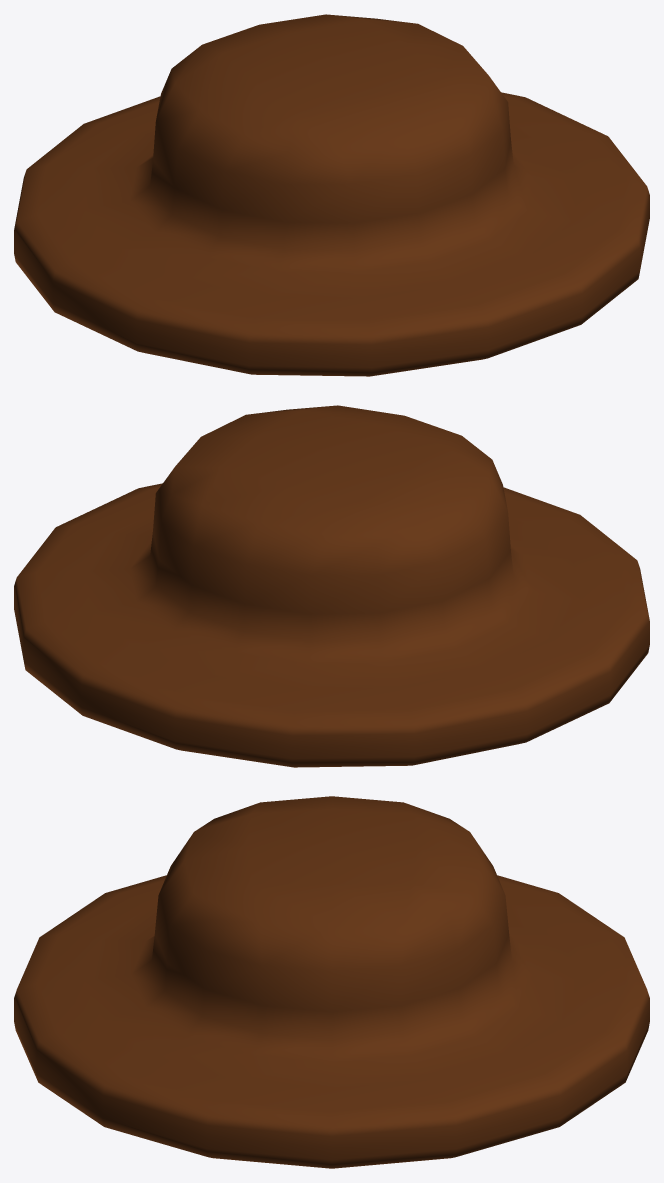
Rendered from chapeu.fbx.
3 views of the same model, one above another, from view 1: azimuth 30°, elevation 25°; view 2: azimuth 150°, elevation 25°; view 3: azimuth 270°, elevation 25° (orthographic).
Parts seen in each view (by area): view 1: Cube; view 2: Cube; view 3: Cube.
Boxes of the visible parts, x1=… form: Cube: x1=14, y1=14, x2=649, y2=376; Cube: x1=14, y1=405, x2=649, y2=767; Cube: x1=14, y1=796, x2=649, y2=1168.
Bounding box in the file's own units: 244 × 79.43 × 237.
